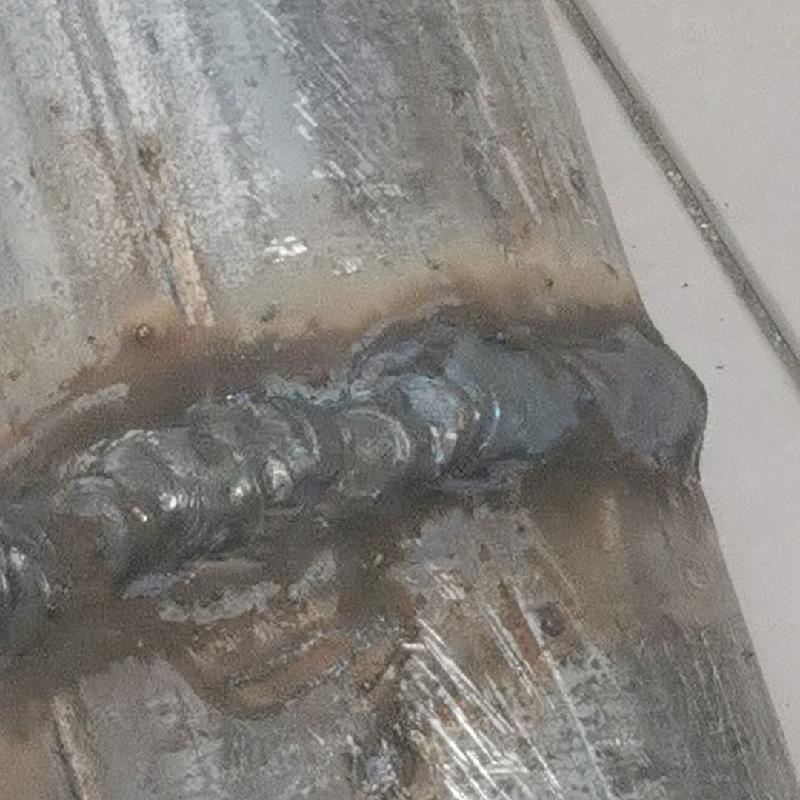good: (2, 318, 708, 611)
